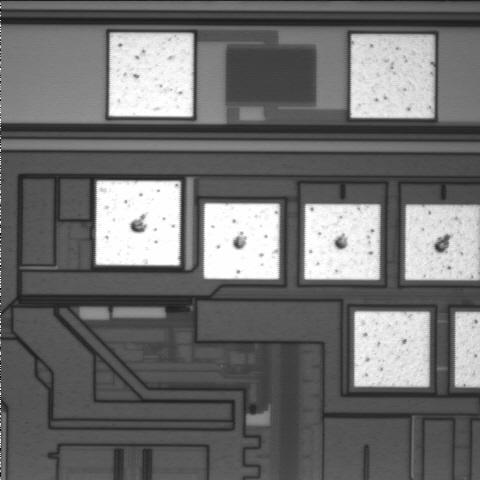pad: (96, 181, 180, 266), (109, 33, 193, 117), (351, 35, 434, 118), (204, 203, 280, 279), (304, 204, 380, 280), (354, 311, 429, 387)
